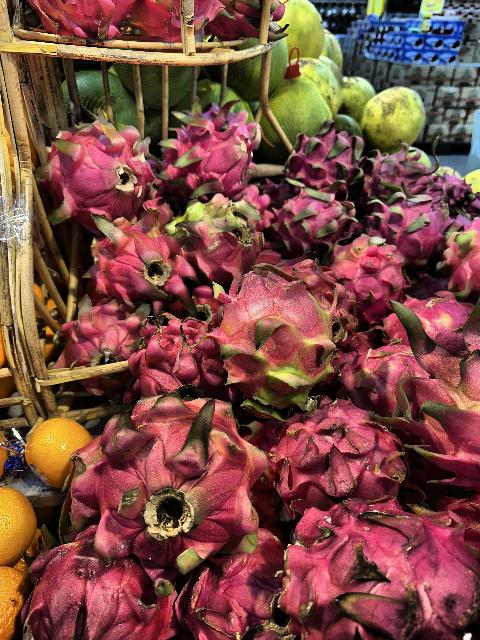buah-naga-belum-matang: (82, 396, 264, 568), (197, 260, 337, 406), (160, 193, 270, 279), (332, 230, 406, 312)
buah-naga-matang: (276, 490, 480, 640), (269, 385, 411, 505), (32, 538, 176, 640), (396, 308, 480, 466), (74, 216, 194, 304), (44, 118, 150, 216), (183, 534, 281, 640), (154, 107, 262, 195), (367, 180, 457, 276), (121, 322, 223, 398), (286, 110, 362, 196), (269, 182, 355, 254), (54, 300, 144, 364), (348, 333, 412, 412), (361, 144, 443, 193), (436, 211, 480, 279)
